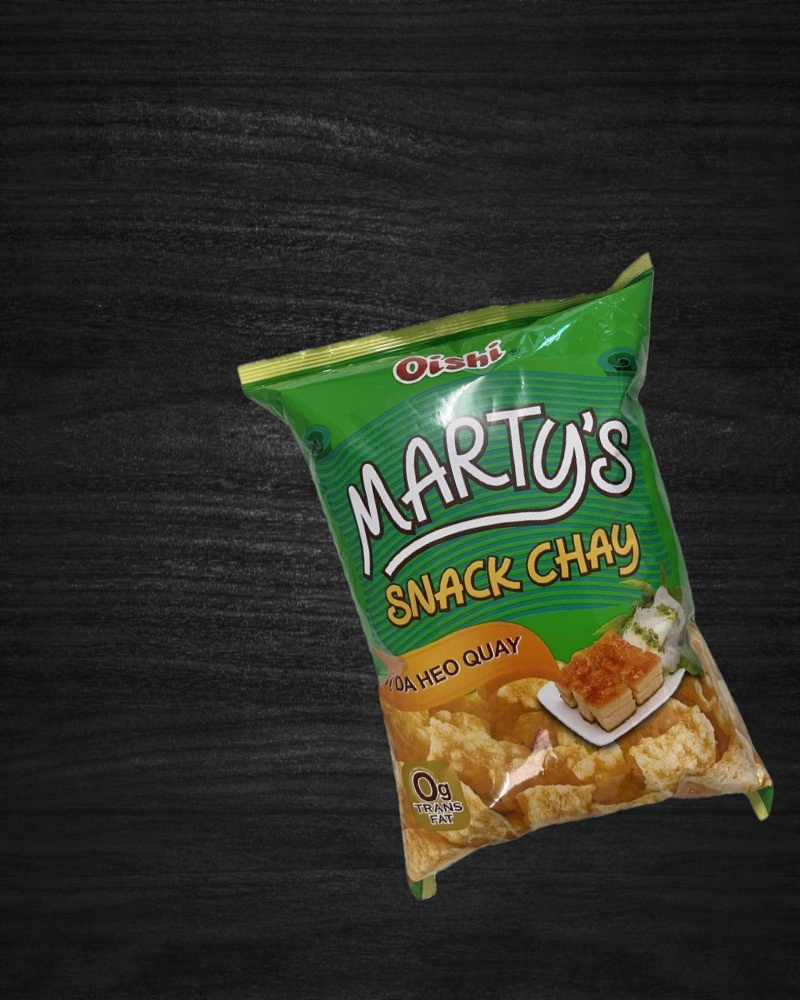Snack chay: (236, 251, 800, 922)
